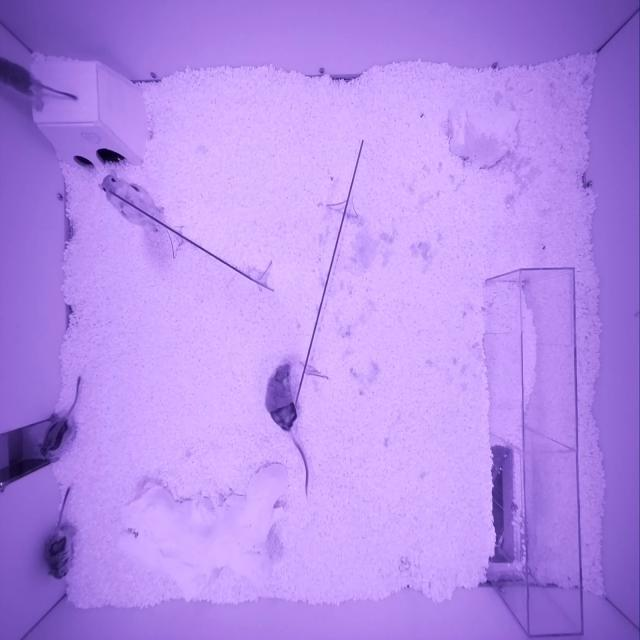adult_back: (265, 361, 300, 434)
adult_front: (98, 169, 165, 233)
pup_fluffy: (1, 58, 50, 111)
pup_spotted: (44, 524, 77, 580)
pup_v_stripe: (38, 418, 75, 459)
